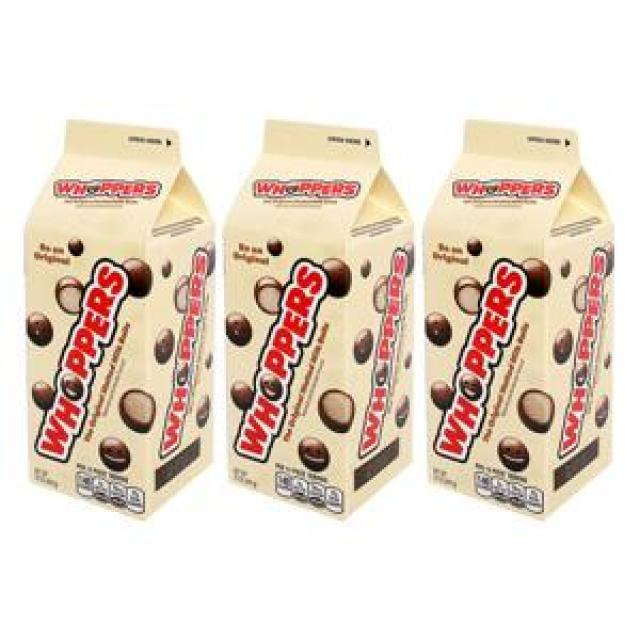Carton: (2, 95, 220, 520), (416, 101, 630, 526), (218, 113, 421, 516)
